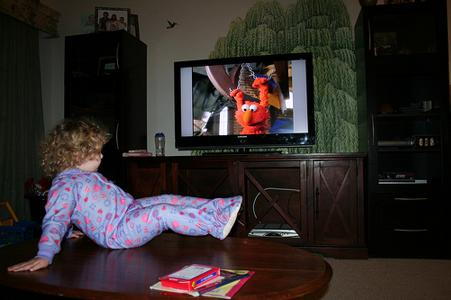person: (9, 118, 244, 269)
